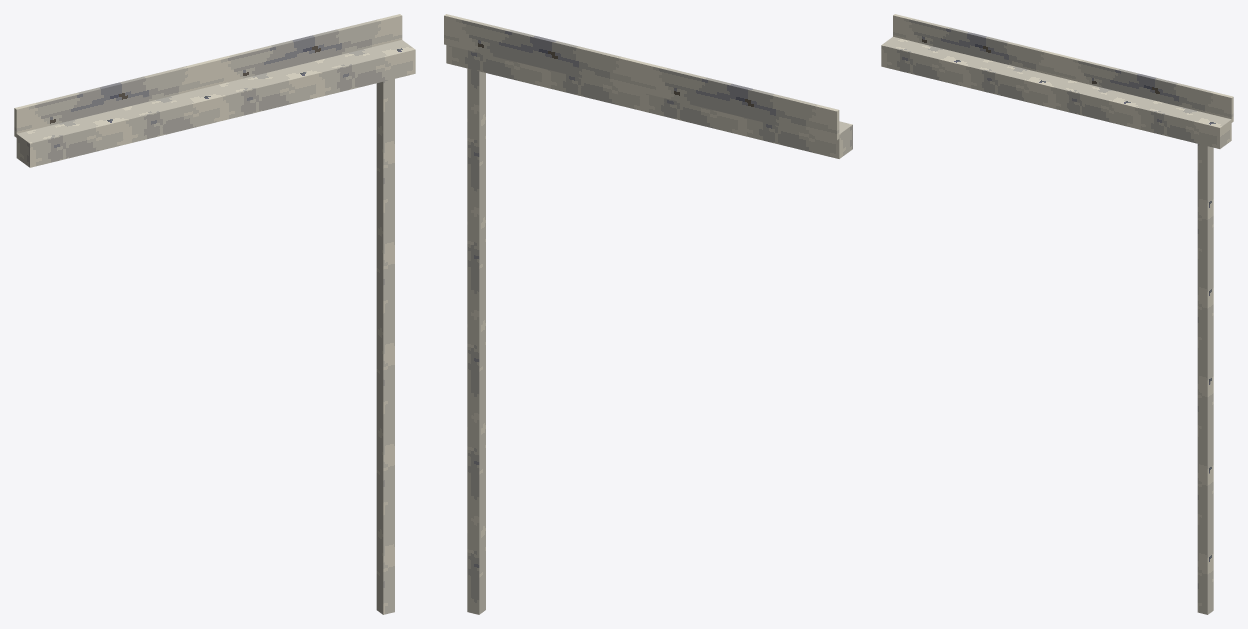
Rendered from RES_Ext_FasciaGutter_2m.obj.
3 renders of one model, left to right at view 1: azimuth 30°, elevation 25°; view 2: azimuth 150°, elevation 25°; view 3: azimuth 330°, elevation 25°, orthographic. The views are drawn at different scales.
Parts seen in each view (by area): view 1: RES_Ext_FasciaGutter_2m_Mesh_M_Town_PaintWhite, RES_Ext_FasciaGutter_2m_Mesh_M_Arch_TrimPainted; view 2: RES_Ext_FasciaGutter_2m_Mesh_M_Town_PaintWhite, RES_Ext_FasciaGutter_2m_Mesh_M_Arch_TrimPainted; view 3: RES_Ext_FasciaGutter_2m_Mesh_M_Town_PaintWhite, RES_Ext_FasciaGutter_2m_Mesh_M_Arch_TrimPainted.
Boxes of the visible parts, bbox=[...] form: RES_Ext_FasciaGutter_2m_Mesh_M_Town_PaintWhite: bbox=[16, 40, 415, 614]; RES_Ext_FasciaGutter_2m_Mesh_M_Arch_TrimPainted: bbox=[14, 14, 402, 137]; RES_Ext_FasciaGutter_2m_Mesh_M_Town_PaintWhite: bbox=[446, 45, 852, 614]; RES_Ext_FasciaGutter_2m_Mesh_M_Arch_TrimPainted: bbox=[444, 14, 839, 140]; RES_Ext_FasciaGutter_2m_Mesh_M_Town_PaintWhite: bbox=[881, 37, 1231, 614]; RES_Ext_FasciaGutter_2m_Mesh_M_Arch_TrimPainted: bbox=[893, 14, 1233, 122].
Bounding box in the file's own units: 2 × 2.9 × 0.14.
2 materials, 2 textured.
